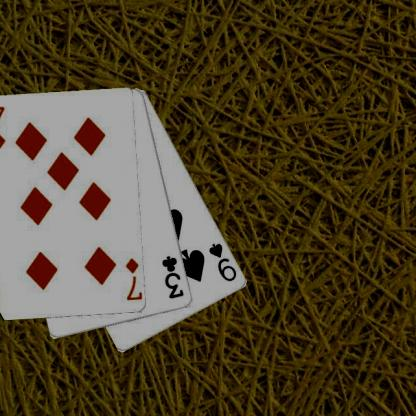3C: (160, 253, 186, 300)
7D: (123, 255, 142, 302), (0, 105, 7, 150)
9S: (206, 240, 239, 284)
